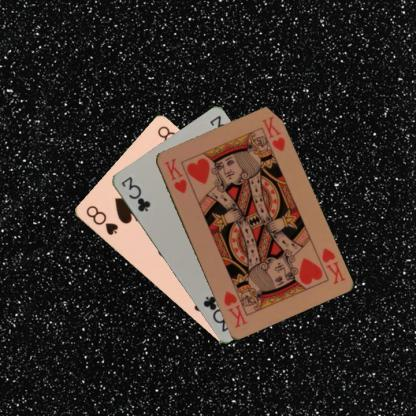3c: (119, 174, 152, 214)
8s: (83, 203, 119, 237)
Kh: (318, 245, 346, 286), (162, 155, 188, 195)
